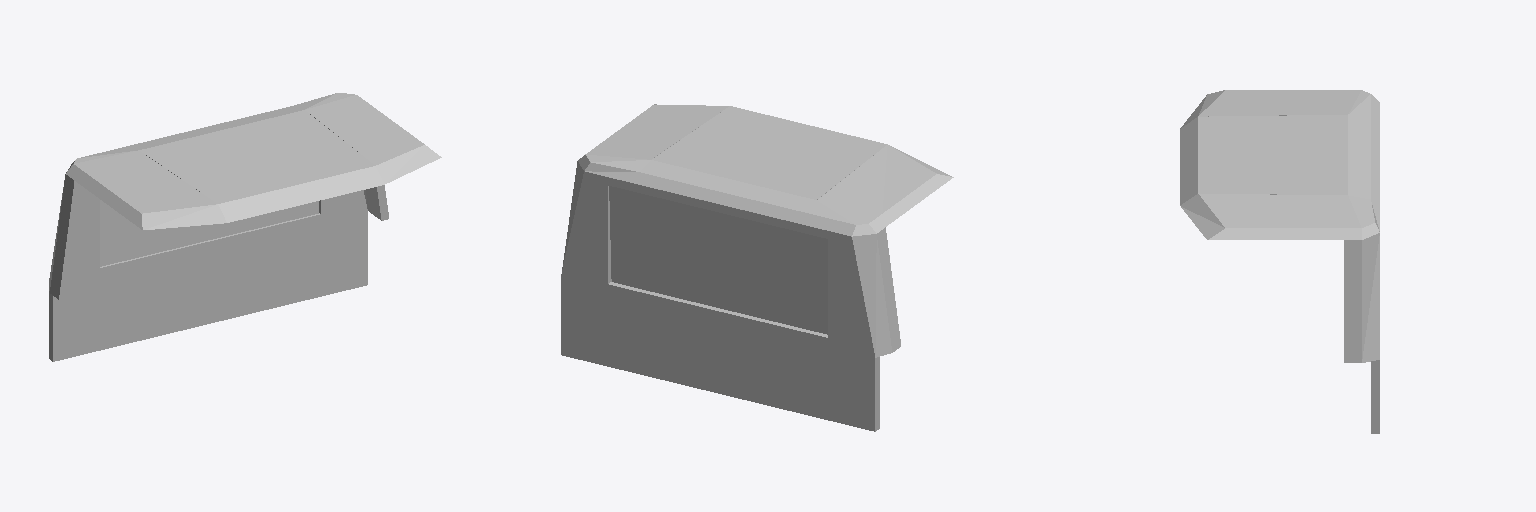
File: sporttrack_hardtop.obj
3 views of the same model, side by side, from view 1: azimuth 30°, elevation 25°; view 2: azimuth 150°, elevation 25°; view 3: azimuth 270°, elevation 25° (orthographic).
Parts seen in each view (by area): view 1: $Top, $DoorBack_Bottom, $DoorBack_Top, $Window_Back; view 2: $Top, $DoorBack_Bottom, $Window_Back, $DoorBack_Top; view 3: $Top, $DoorBack_Bottom.
Boxes of the visible parts, x1=… form: $Top: x1=49, y1=93, x2=441, y2=299; $DoorBack_Bottom: x1=49, y1=211, x2=367, y2=361; $DoorBack_Top: x1=69, y1=186, x2=367, y2=283; $Window_Back: x1=100, y1=200, x2=318, y2=266; $Top: x1=561, y1=104, x2=953, y2=357; $DoorBack_Bottom: x1=561, y1=281, x2=879, y2=431; $Window_Back: x1=609, y1=186, x2=827, y2=334; $DoorBack_Top: x1=561, y1=171, x2=874, y2=357; $Top: x1=1180, y1=90, x2=1379, y2=362; $DoorBack_Bottom: x1=1371, y1=360, x2=1379, y2=433.
Size of the model in its own units: 2.62 by 1.53 by 1.38.